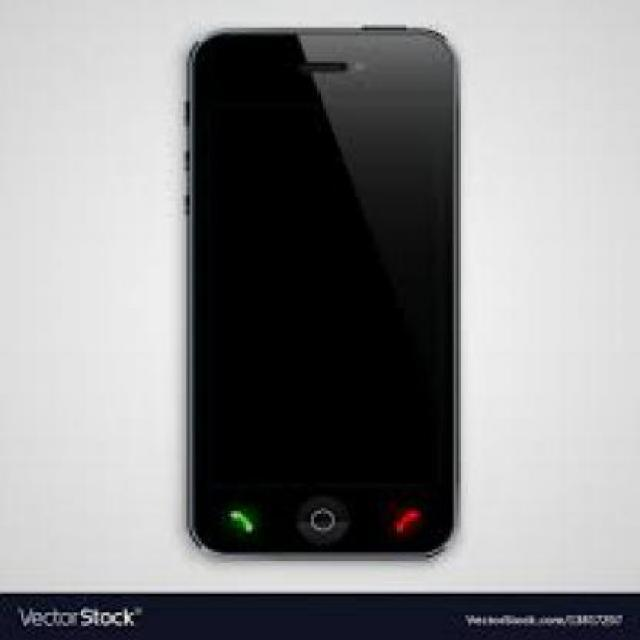phone: (187, 25, 459, 561)
